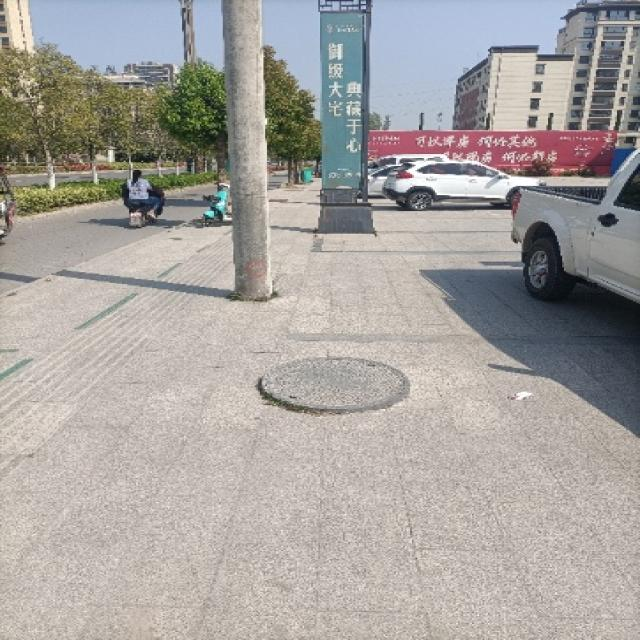Good: (255, 351, 428, 423)
